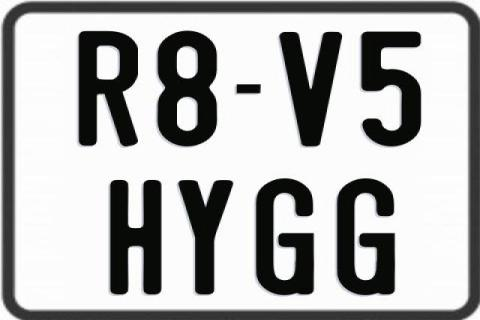0: (155, 30, 221, 146), (360, 29, 422, 147)
G: (335, 176, 396, 298), (256, 176, 314, 296)
H: (108, 180, 162, 297)
R: (78, 29, 141, 149)
V: (277, 31, 345, 151)
Y: (176, 178, 234, 298)
